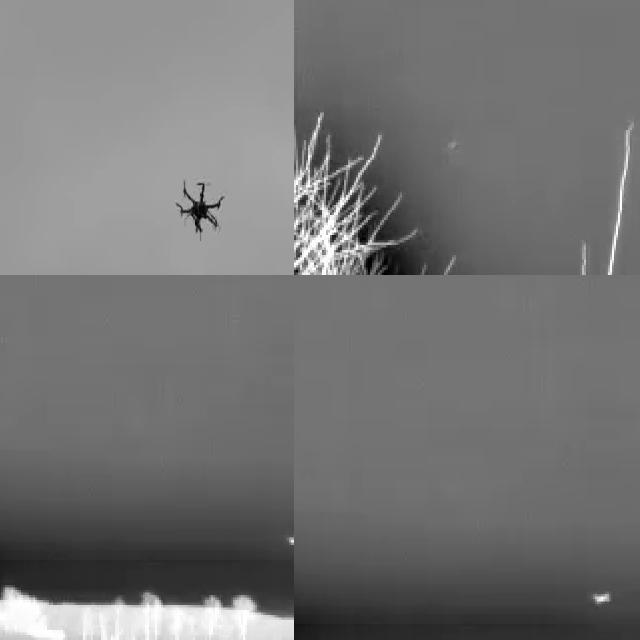0: (436, 132, 470, 168)
1: (583, 586, 621, 620), (279, 527, 294, 560)
drone: (174, 175, 228, 242)
